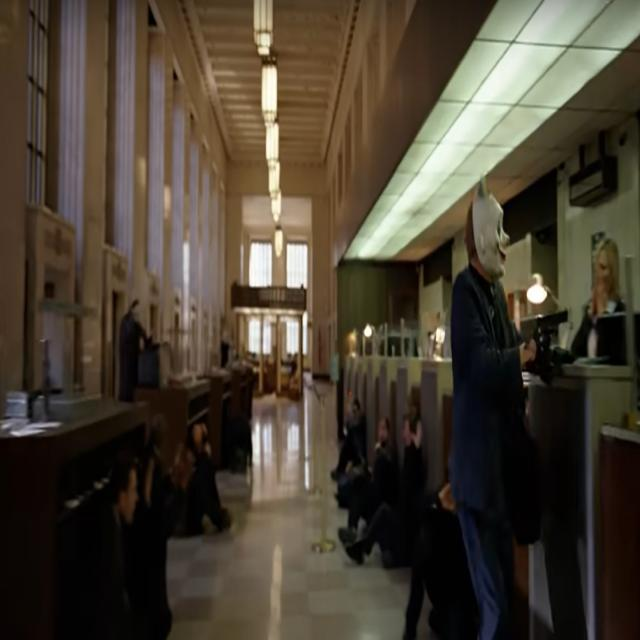pistol: (529, 299, 568, 352)
